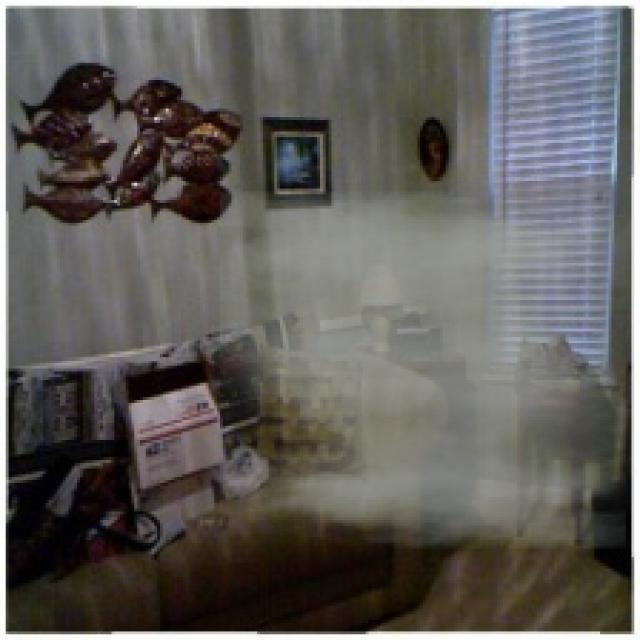smoke: (212, 192, 632, 548)
